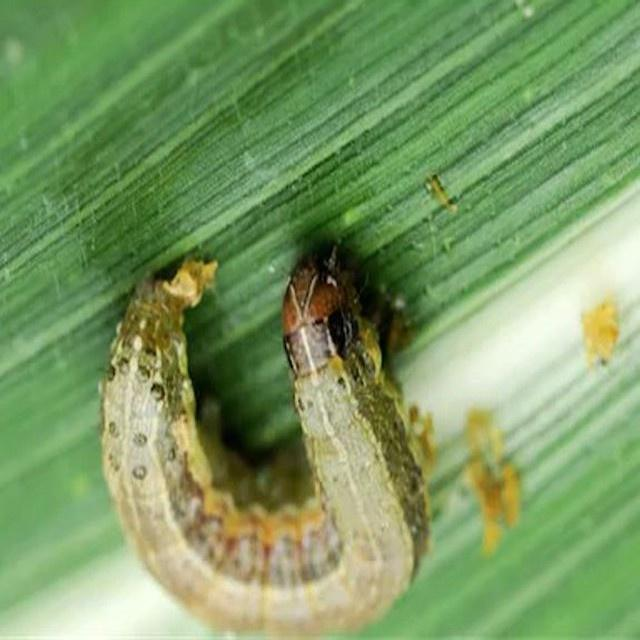gusano_cogollero: (101, 258, 432, 632)
